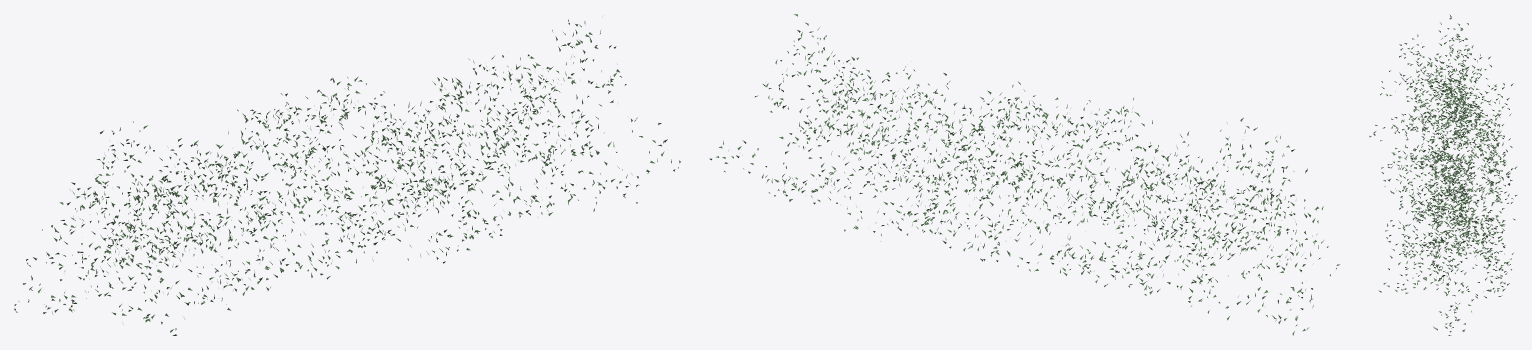
File: xiyuan-vegetation-27-far.glb
3 renders of one model, left to right at view 1: azimuth 30°, elevation 25°; view 2: azimuth 150°, elevation 25°; view 3: azimuth 270°, elevation 25°, orthographic. The views are drawn at different scales.
Visible parts, largest first — view 1: vegetation cedar leaves.002; view 2: vegetation cedar leaves.002; view 3: vegetation cedar leaves.002.
Boxes of the visible parts, bbox=[...] form: vegetation cedar leaves.002: bbox=[14, 19, 680, 335]; vegetation cedar leaves.002: bbox=[709, 14, 1339, 335]; vegetation cedar leaves.002: bbox=[1369, 14, 1517, 335].
Bounding box in the file's own units: 38.03 × 11.08 × 10.6.
